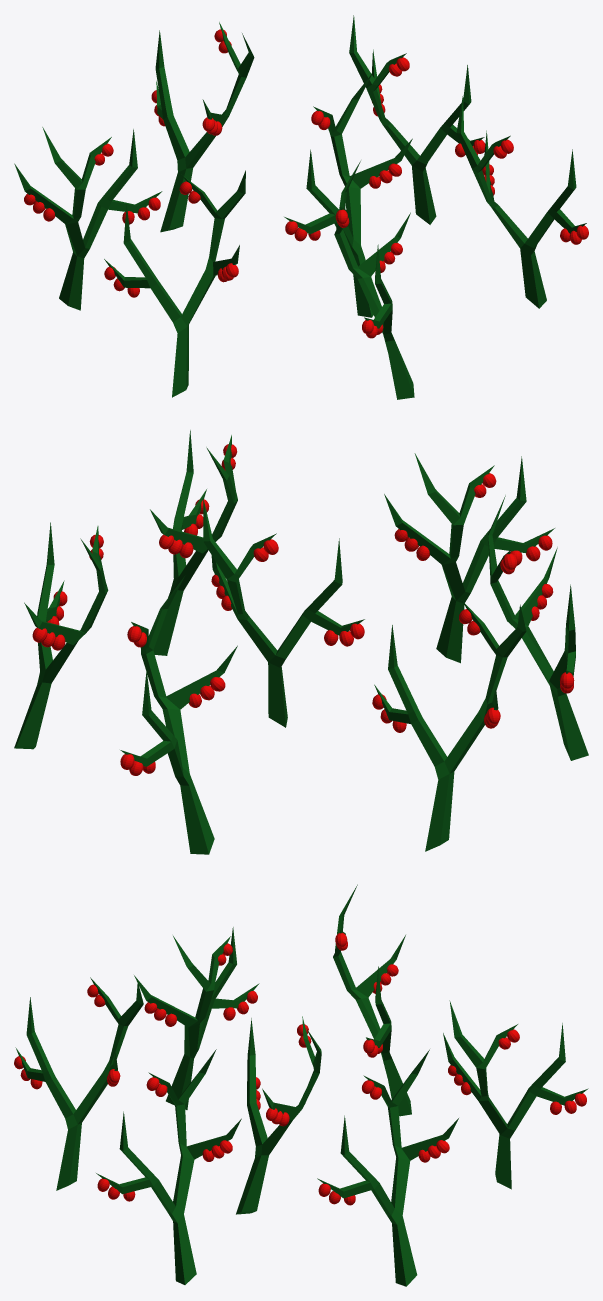
File: Tomato-3.fbx
3 renders of one model, top to bottom at view 1: azimuth 30°, elevation 25°; view 2: azimuth 150°, elevation 25°; view 3: azimuth 270°, elevation 25°, orthographic. The views are drawn at different scales.
Parts seen in each view (by area): view 1: Bush_average_bare.005, Bush_average_bare.004, Bush_average_bare.009, Bush_average_bare.002, Bush_average_bare.006, Bush_average_bare.001, Bush_average_bare.003; view 2: Bush_average_bare.003, Bush_average_bare.006, Bush_average_bare.005, Bush_average_bare.009, Bush_average_bare.001, Bush_average_bare.004, Bush_average_bare.002; view 3: Bush_average_bare.001, Bush_average_bare.002, Bush_average_bare.003, Bush_average_bare.006, Bush_average_bare.004, Bush_average_bare.009, Bush_average_bare.005.
Part boxes in pixels (x1,y1,x2,y2): Bush_average_bare.005: (14,127,162,310); Bush_average_bare.004: (104,170,245,397); Bush_average_bare.009: (284,73,412,317); Bush_average_bare.002: (456,96,586,308); Bush_average_bare.006: (155,22,254,232); Bush_average_bare.001: (349,15,484,224); Bush_average_bare.003: (334,161,414,399); Bush_average_bare.003: (384,453,554,663); Bush_average_bare.006: (120,575,237,854); Bush_average_bare.005: (374,600,526,851); Bush_average_bare.009: (203,498,364,727); Bush_average_bare.001: (14,522,108,749); Bush_average_bare.004: (488,495,588,760); Bush_average_bare.002: (150,430,237,655); Bush_average_bare.001: (317,1049,458,1286); Bush_average_bare.002: (96,1049,241,1284); Bush_average_bare.003: (15,977,143,1190); Bush_average_bare.006: (443,1000,588,1189); Bush_average_bare.004: (134,927,259,1109); Bush_average_bare.009: (236,1016,321,1214); Bush_average_bare.005: (333,884,411,1116).
Size of the model in its own units: 135 by 63.69 by 161.
